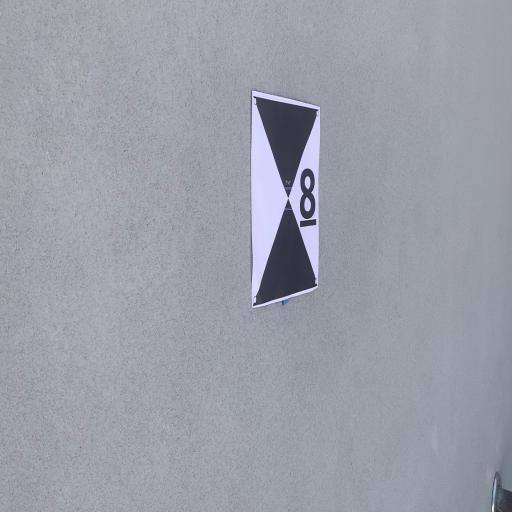target8: (250, 91, 319, 307)
